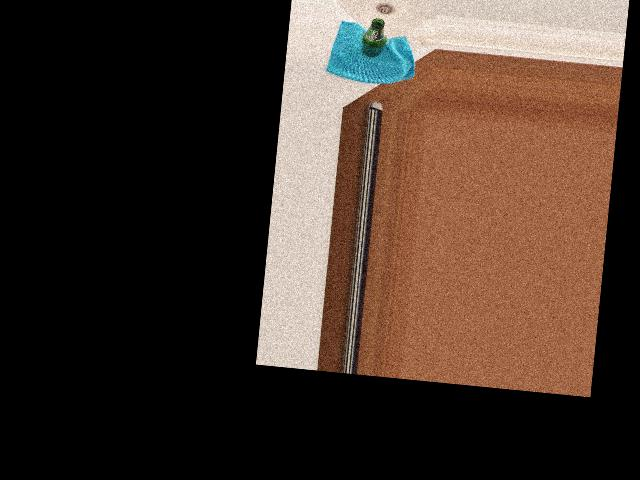beer: (360, 17, 388, 59)
